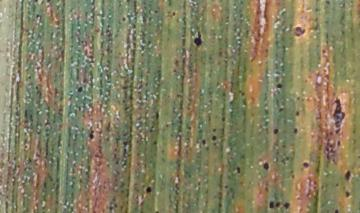tarspot: (330, 96, 346, 136), (325, 137, 336, 163), (192, 30, 204, 48), (292, 25, 305, 39), (87, 128, 97, 141), (343, 168, 352, 181), (262, 160, 271, 172), (283, 200, 291, 212), (143, 184, 153, 193), (320, 46, 328, 56), (268, 200, 276, 210), (274, 82, 283, 90), (301, 160, 310, 168), (274, 200, 282, 209), (272, 127, 280, 136), (344, 189, 351, 199), (335, 139, 343, 147), (76, 85, 84, 93), (120, 15, 128, 23), (235, 165, 242, 174), (173, 57, 180, 66), (292, 127, 299, 135), (211, 135, 218, 143), (211, 127, 218, 135), (154, 111, 161, 119), (122, 139, 130, 146), (237, 90, 246, 96), (294, 110, 301, 117), (200, 138, 207, 145), (220, 116, 227, 123), (171, 10, 177, 18), (334, 180, 340, 188), (186, 123, 191, 132), (278, 106, 285, 112), (295, 95, 301, 102), (222, 183, 229, 189), (216, 201, 222, 208), (153, 8, 158, 16), (152, 140, 158, 146), (333, 208, 340, 213), (172, 68, 177, 74), (153, 209, 160, 213), (125, 1, 132, 5), (357, 153, 360, 161), (325, 1, 329, 5)
